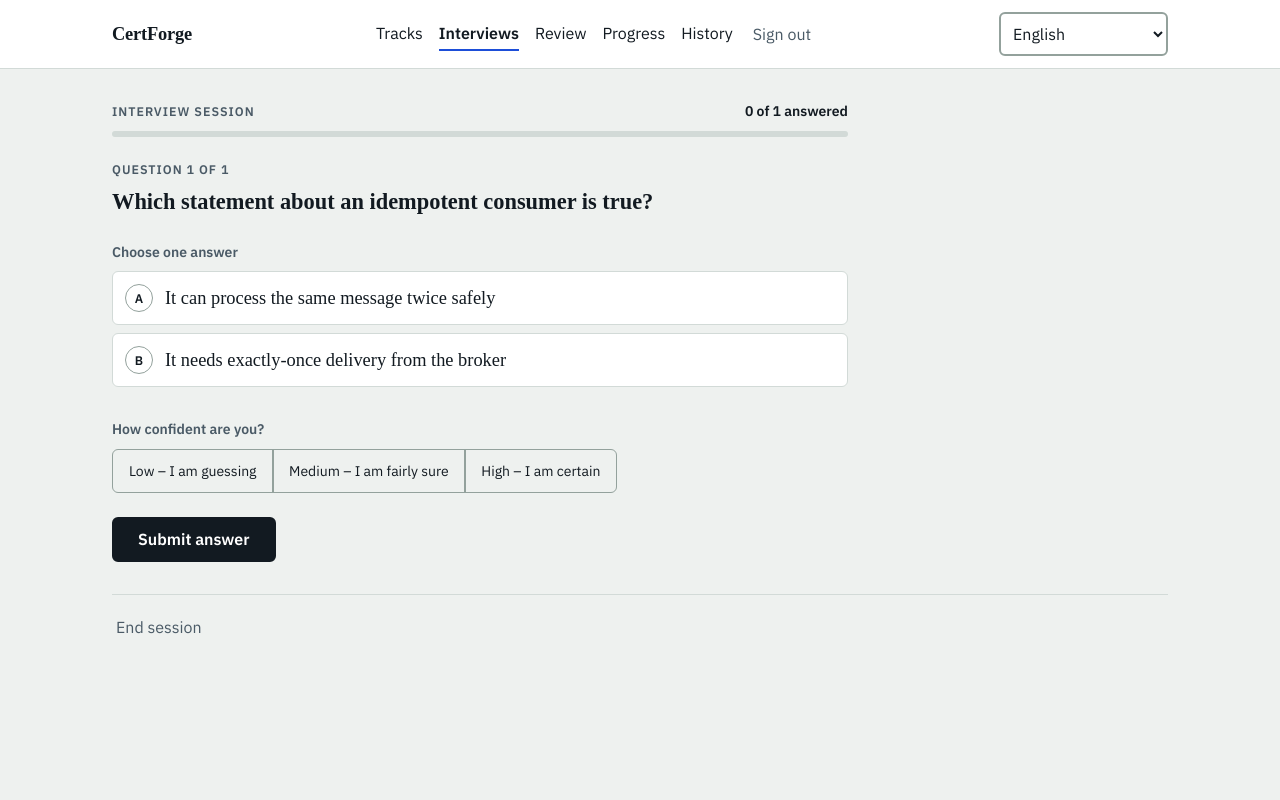
it: interview preparation › answers an objective item, graded exactly as practice grades one
Click the radio button labelled "It can process the same message twice safely".
click(330, 304)  # box [165, 288, 495, 321]
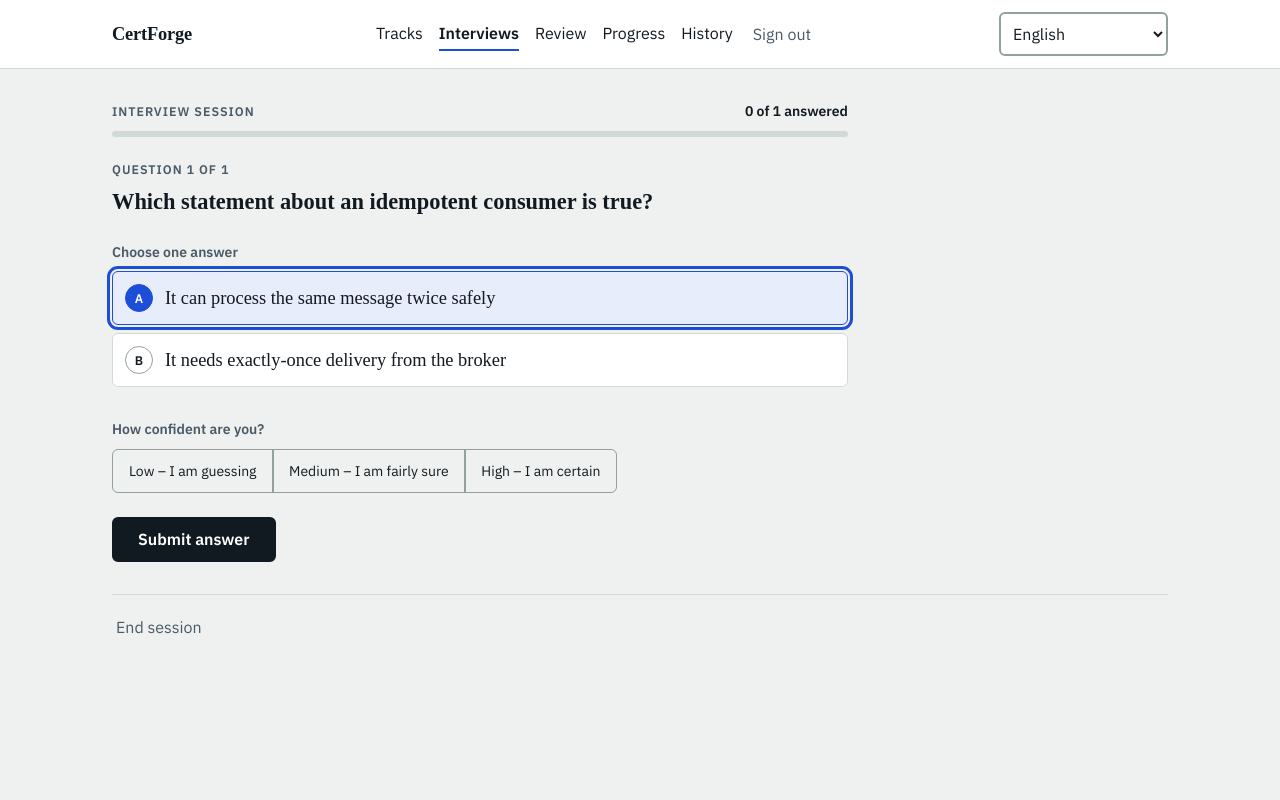
The same wording a guided item uses for the same question (how sure are you?).
Click the radio button labelled "High – I am certain".
click(541, 471)  # box [464, 449, 618, 493]
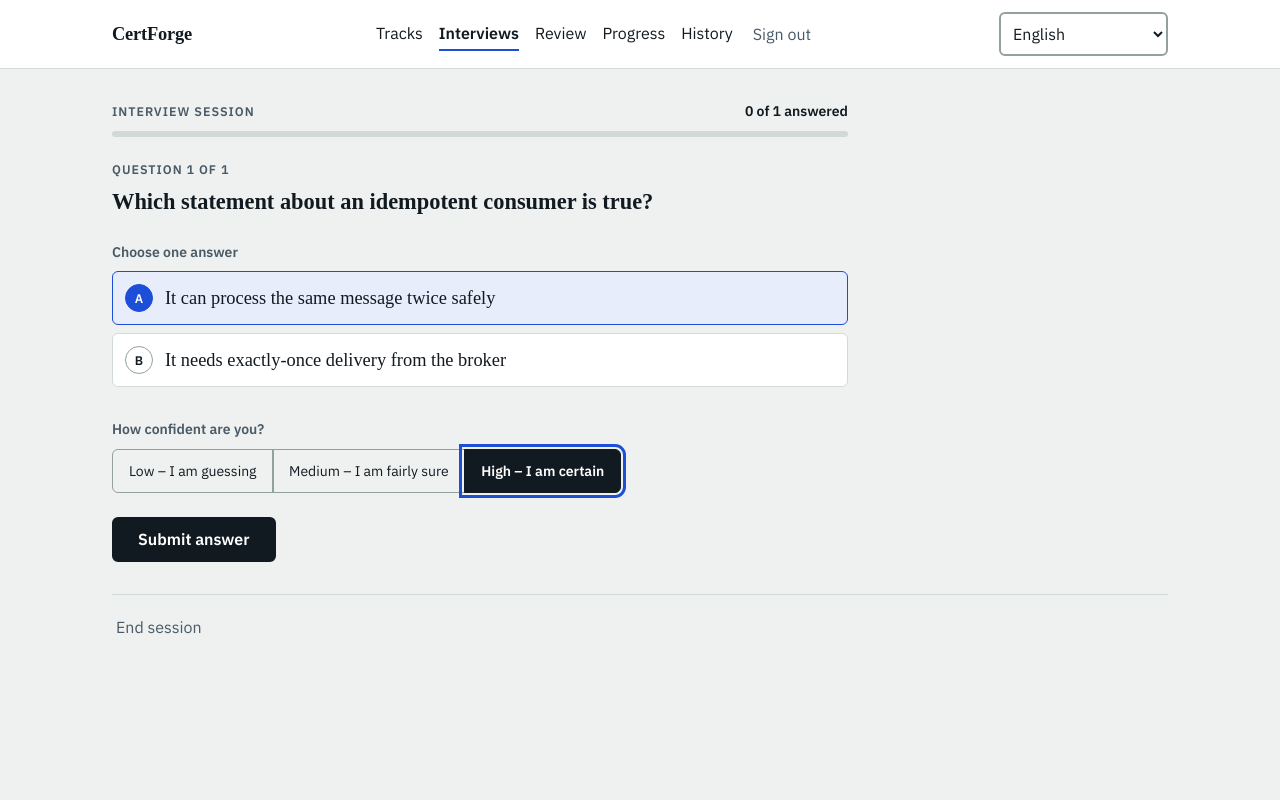
Click the button "Submit answer".
click(194, 539)  # box [112, 517, 276, 562]
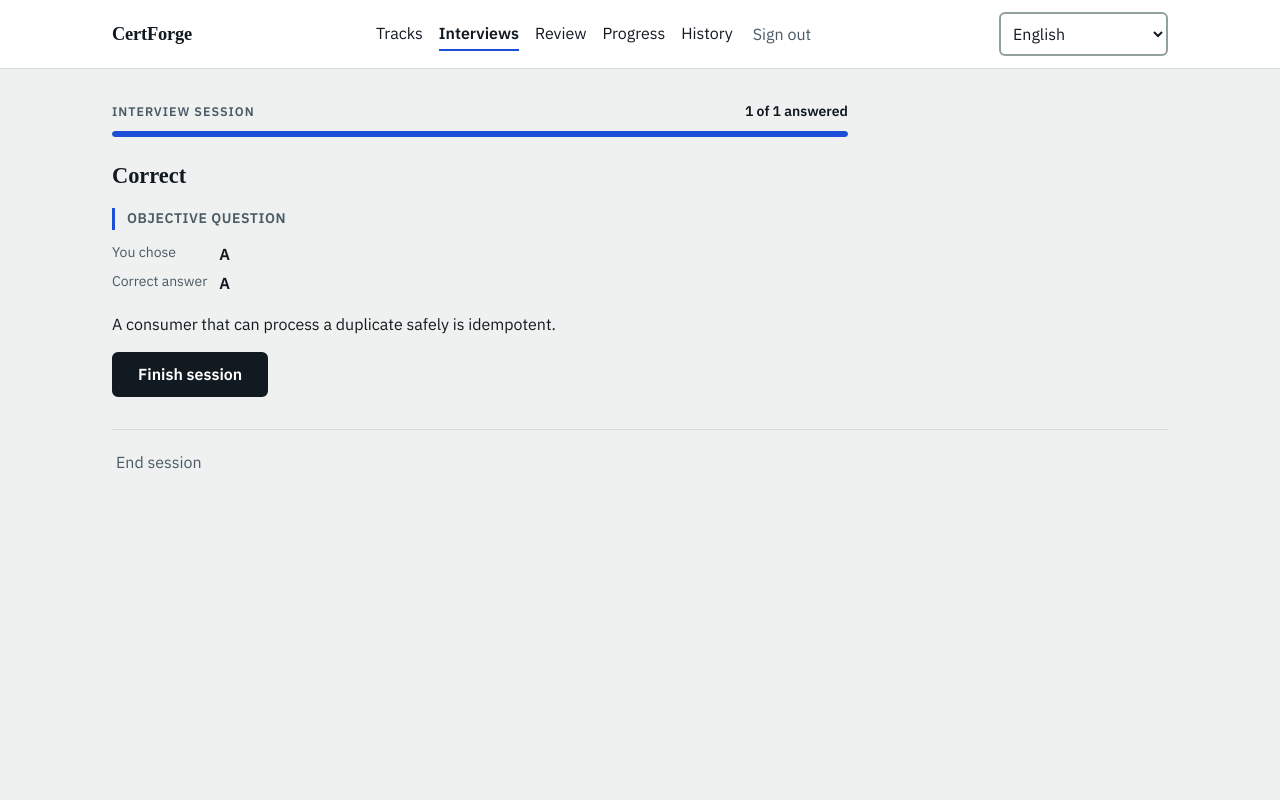
Result: the heading "Correct" is shown at [112, 163, 186, 188]
Result: the text "A consumer that can process a duplicate safely" is shown at [112, 314, 556, 334]
